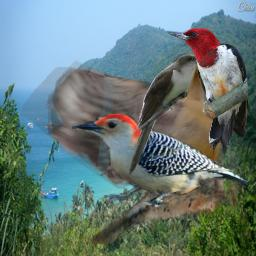Cuckoo: (125, 52, 209, 177)
Woodpecker: (18, 50, 238, 244), (72, 114, 248, 210), (167, 27, 248, 156)
